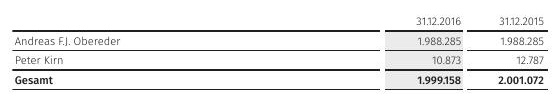table: (0, 0, 559, 102)
